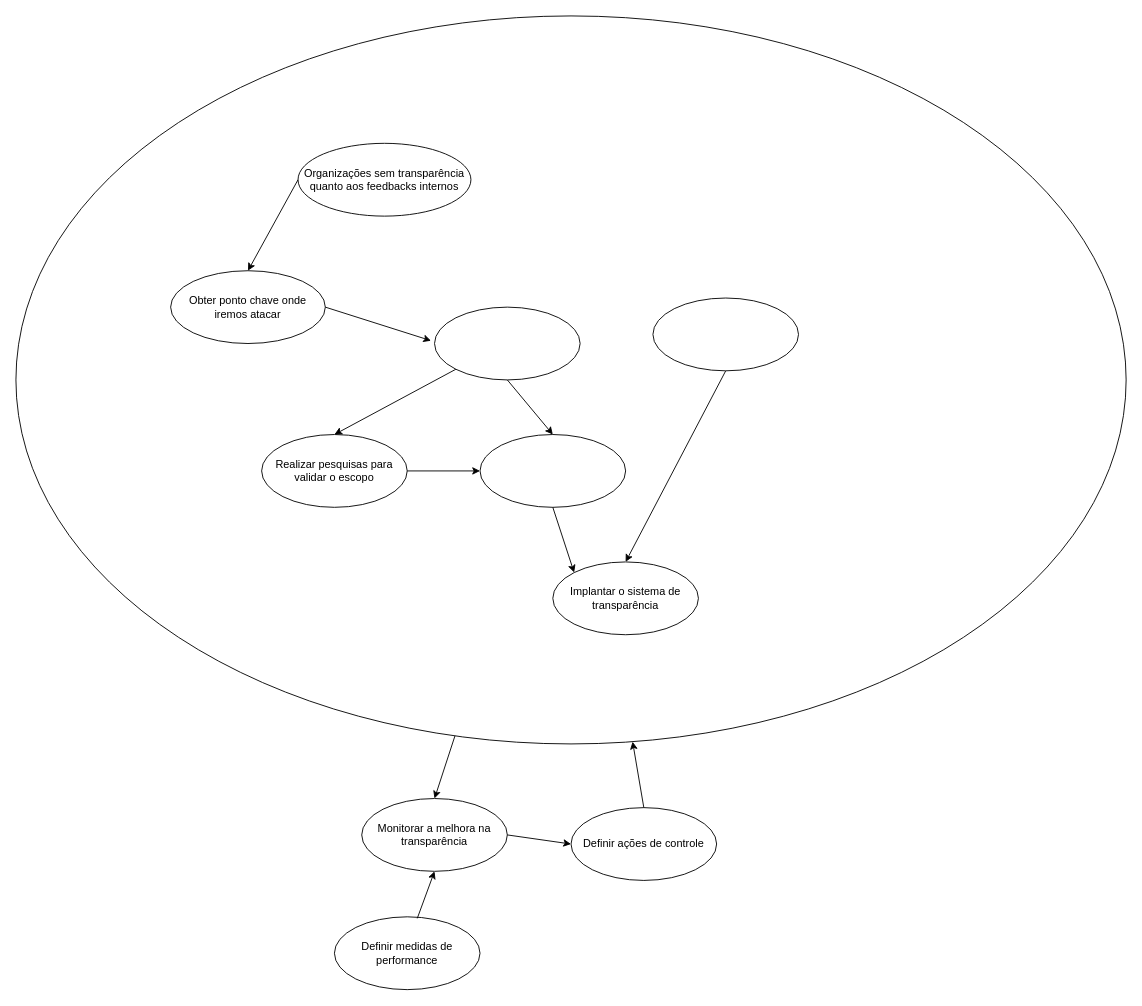
This 1142x1006 diagram has some shape labels left out. Each missing label, with the centre of its shape:
"Decidir as ferramentas necessárias para implementação" belongs at point 725,334.
"Decidir o escopo onde iremos atacar" belongs at point 507,343.
"Estudar as especificidades sobre o escopo" belongs at point 552,470.
